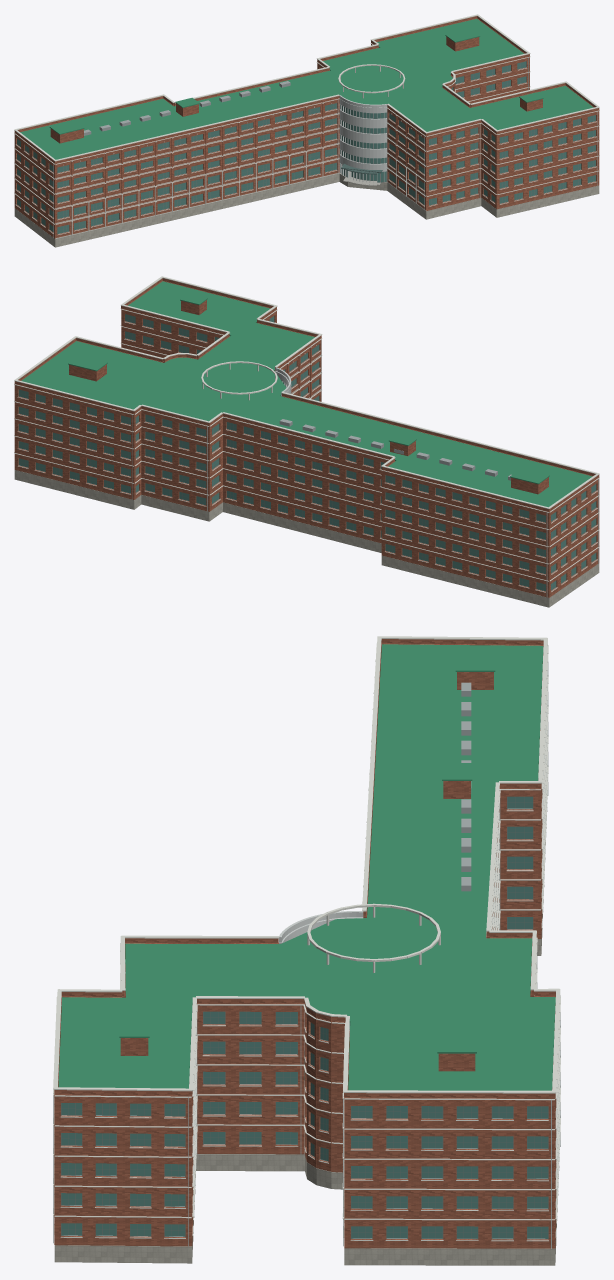
3 renders of one model, top to bottom at view 1: azimuth 30°, elevation 25°; view 2: azimuth 150°, elevation 25°; view 3: azimuth 270°, elevation 25°, orthographic. The views are drawn at different scales.
Parts seen in each view (by area): view 1: main__brick, main__roof, main__glass, main__white, main__stone, main__frame, main__panel, main__rail, main__equipment; view 2: main__brick, main__roof, main__glass, main__white, main__stone, main__frame, main__rail, main__equipment; view 3: main__roof, main__brick, main__white, main__glass, main__stone, main__frame, main__rail, main__equipment, main__panel.
Boxes of the visible parts, x1,y1,x2,y2 form: main__brick: (14, 16, 599, 238); main__roof: (20, 19, 593, 159); main__glass: (17, 61, 595, 233); main__white: (14, 14, 599, 238); main__stone: (14, 171, 599, 247); main__frame: (17, 61, 595, 232); main__panel: (339, 95, 387, 182); main__rail: (16, 57, 597, 237); main__equipment: (84, 81, 290, 135); main__brick: (14, 278, 599, 597); main__roof: (21, 281, 592, 507); main__glass: (18, 314, 596, 591); main__white: (14, 276, 599, 592); main__stone: (14, 470, 599, 607); main__frame: (19, 314, 595, 590); main__rail: (18, 321, 598, 596); main__equipment: (279, 419, 511, 480); main__roof: (58, 644, 555, 1090); main__brick: (54, 639, 556, 1248); main__white: (53, 636, 560, 1241); main__glass: (61, 721, 554, 1238); main__stone: (54, 811, 559, 1265); main__frame: (61, 796, 548, 1239); main__rail: (53, 662, 560, 1248); main__equipment: (461, 682, 471, 891); main__panel: (279, 911, 363, 1050).
Bounding box in the file's own units: 117 × 22.43 × 55.17.
11 materials, 2 textured.
